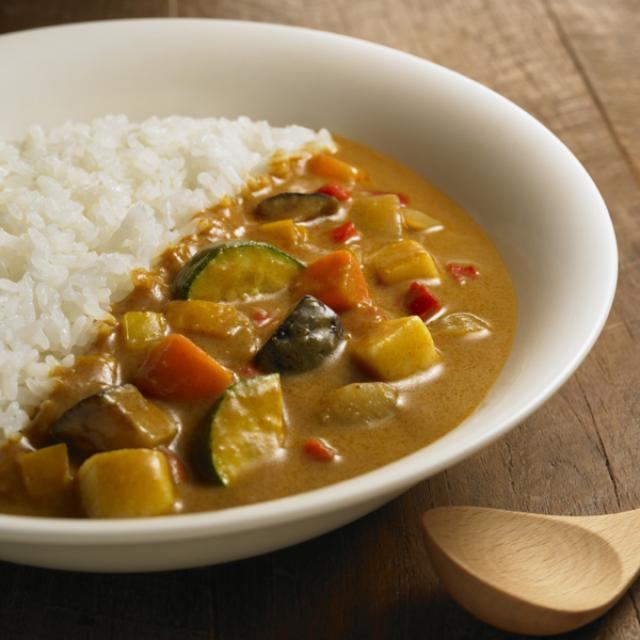牛肉菜式: (0, 17, 619, 560)
